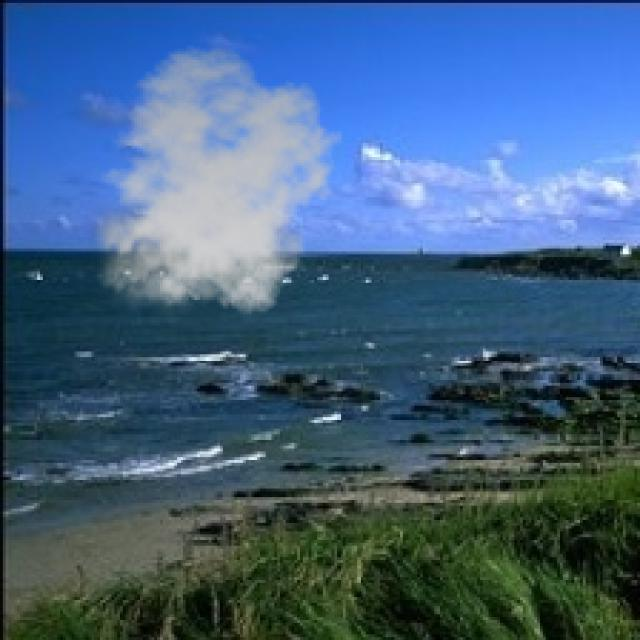smoke: (83, 46, 343, 323)
